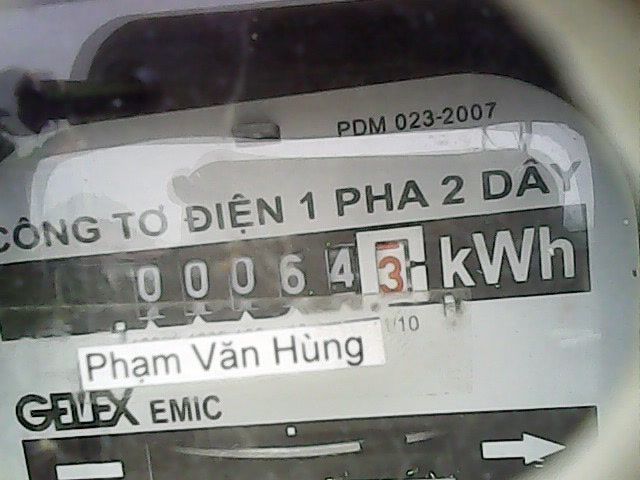phy_plate: (124, 221, 436, 334)
